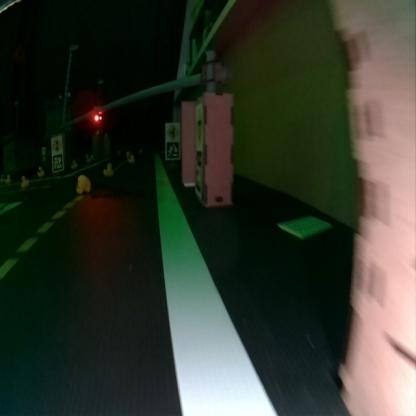Duckie: (76, 176, 90, 193), (104, 162, 111, 174), (22, 175, 28, 186), (36, 166, 43, 175), (70, 160, 76, 168), (4, 176, 10, 184), (0, 173, 6, 181), (128, 155, 132, 162)
Intersection sign: (194, 106, 204, 147), (166, 123, 179, 138)
QR code: (195, 151, 201, 196), (166, 140, 178, 158), (52, 153, 62, 171)
Signal sign: (52, 136, 61, 153)
